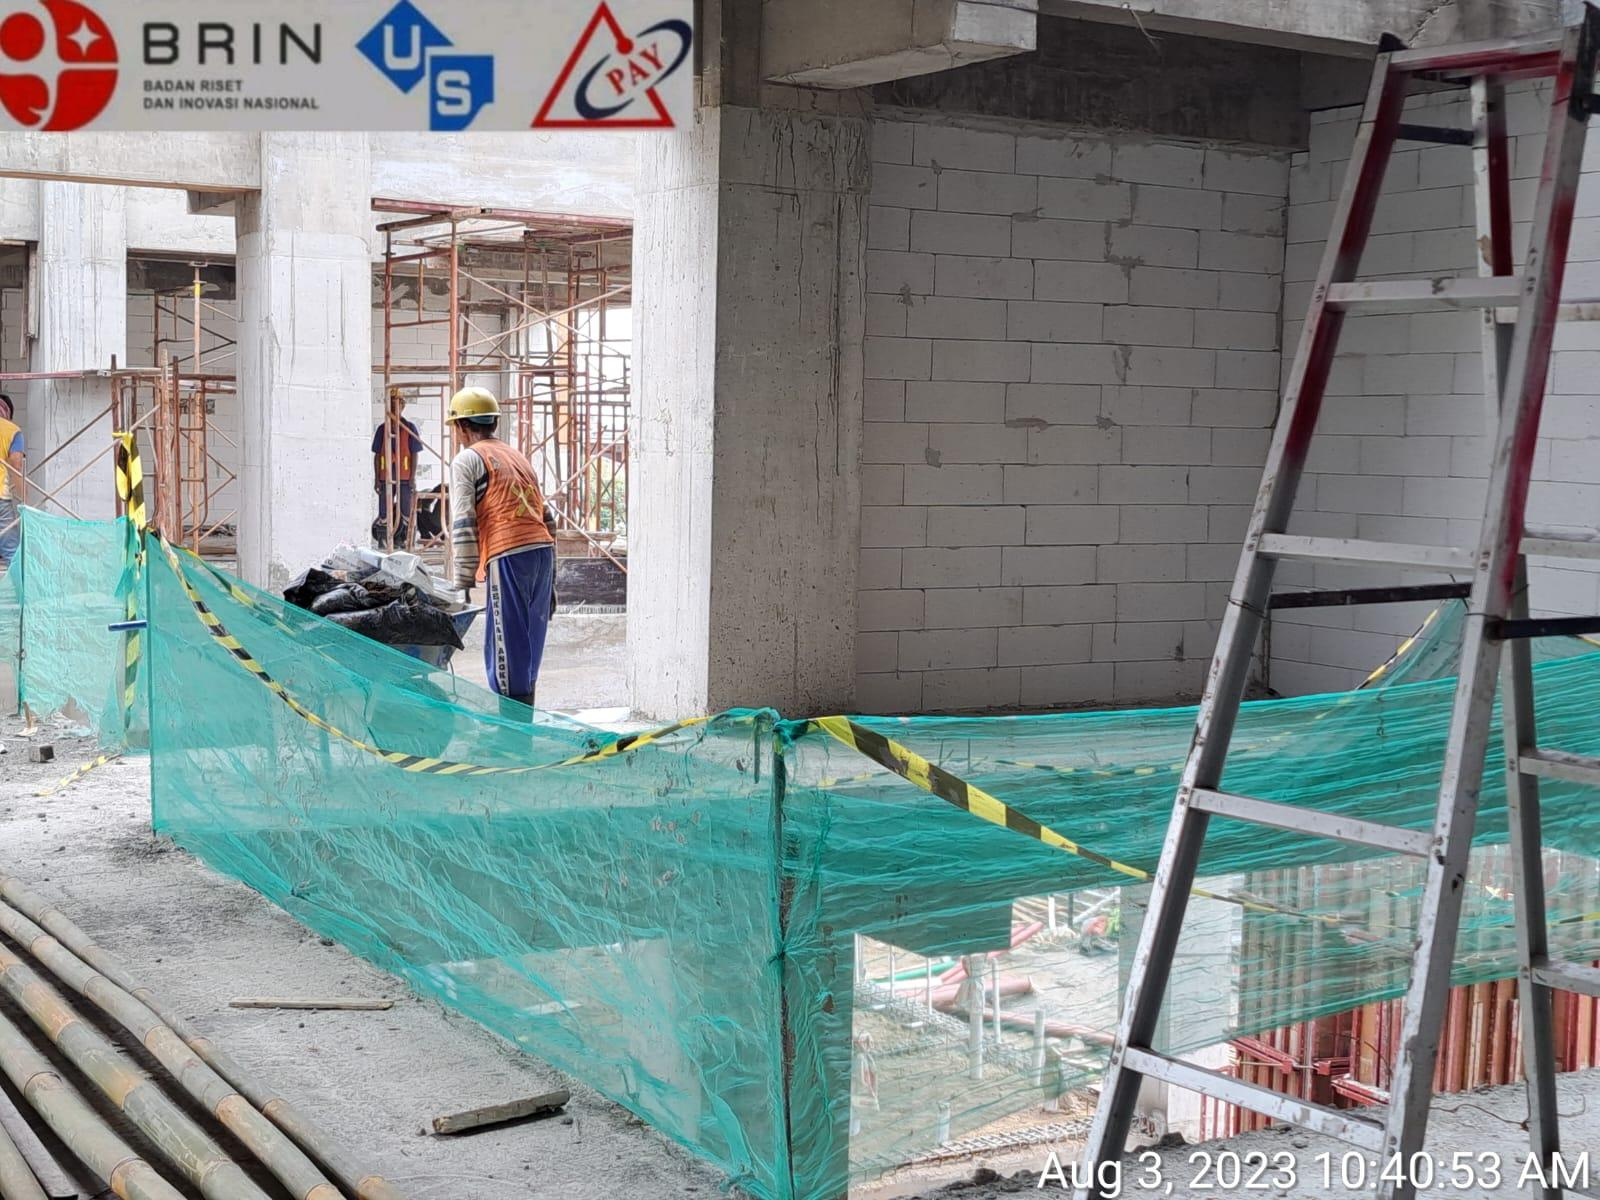hat: (408, 364, 540, 447)
vest: (428, 431, 593, 574)
